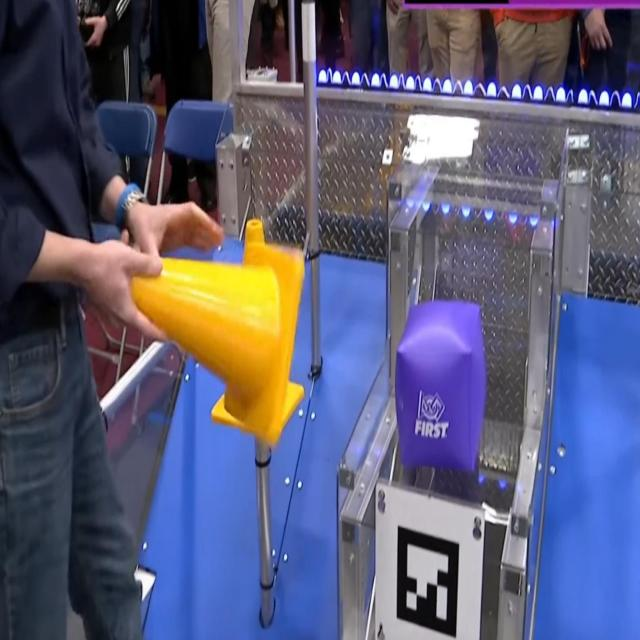frc_cone: (118, 241, 300, 439), (208, 223, 306, 443)
frc_cube: (397, 302, 488, 474)
